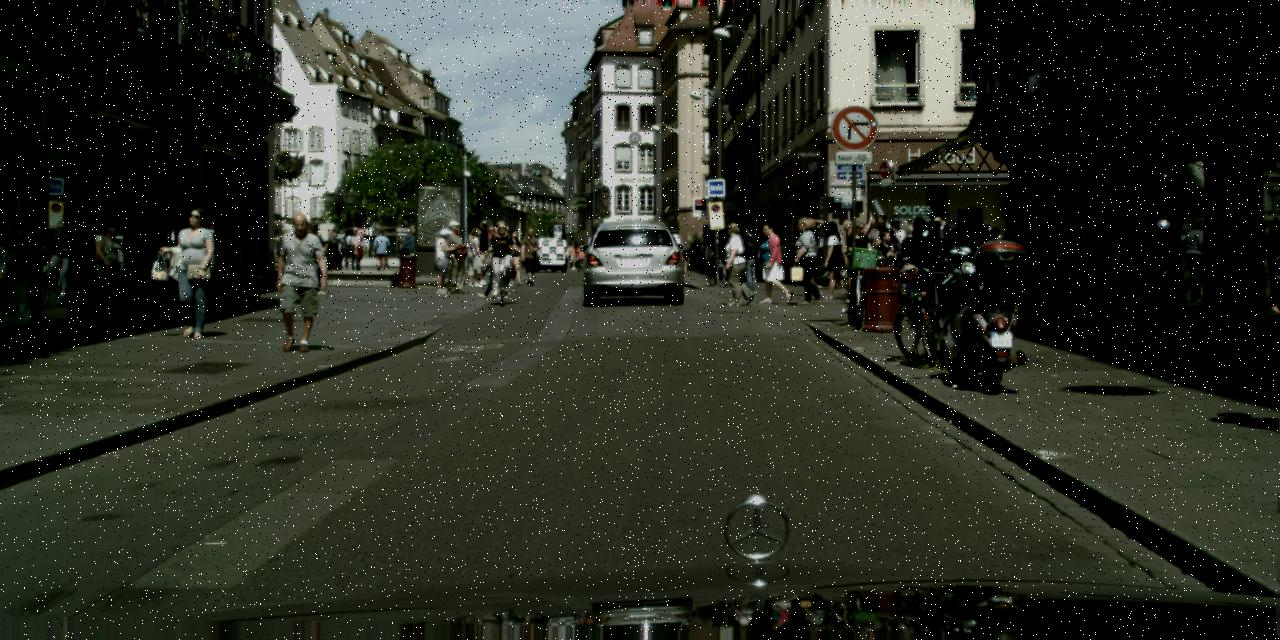ped: (268, 212, 325, 352), (170, 210, 220, 336), (896, 216, 932, 302), (790, 216, 825, 302), (990, 206, 1025, 292), (756, 223, 790, 303), (719, 222, 752, 304), (865, 214, 897, 294), (892, 224, 924, 303), (794, 218, 826, 296), (842, 221, 874, 298), (820, 220, 851, 298), (438, 218, 468, 294), (486, 220, 516, 292), (736, 225, 764, 293), (429, 227, 456, 293), (468, 220, 495, 285), (917, 217, 951, 264), (836, 220, 860, 281), (462, 226, 486, 285), (875, 230, 899, 289), (518, 228, 542, 286), (503, 230, 526, 284), (890, 220, 911, 272), (402, 225, 422, 276), (482, 224, 500, 270), (327, 225, 344, 268), (346, 228, 363, 270), (372, 230, 388, 270), (338, 229, 354, 269), (326, 232, 341, 270), (710, 241, 724, 276), (568, 244, 584, 270), (703, 242, 715, 274), (697, 240, 708, 268), (700, 248, 710, 272)
